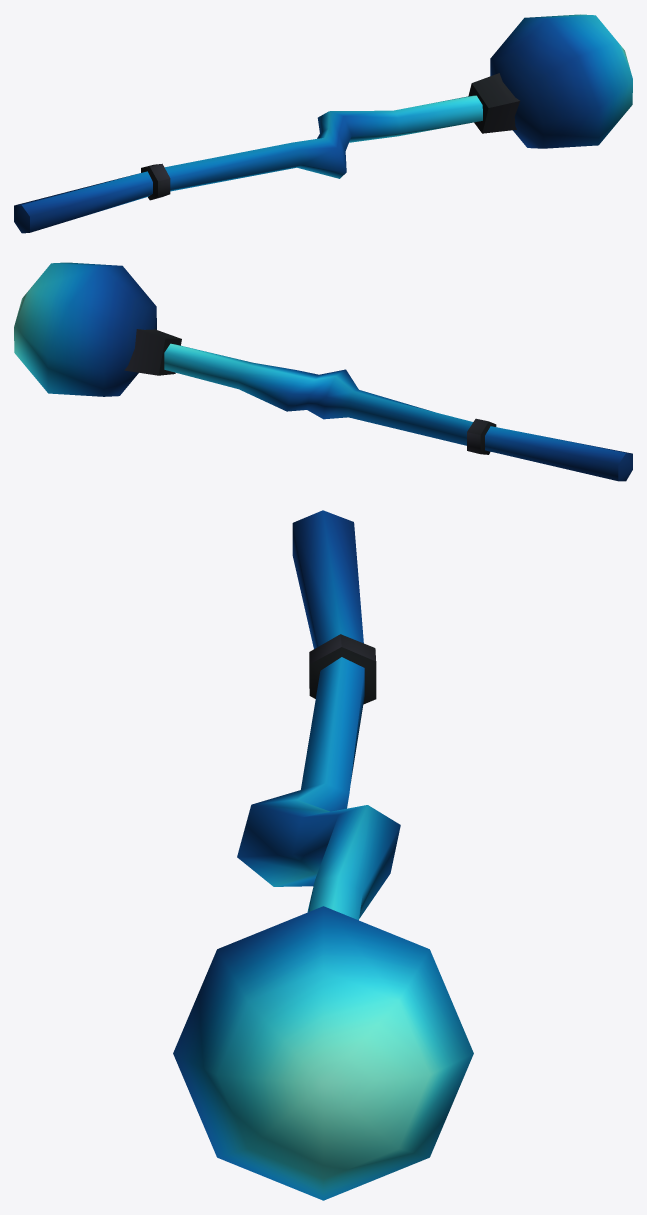
File: weapon_06.FBX
3 renders of one model, top to bottom at view 1: azimuth 30°, elevation 25°; view 2: azimuth 150°, elevation 25°; view 3: azimuth 270°, elevation 25°, orthographic. The views are drawn at different scales.
Parts seen in each view (by area): view 1: weapon_06; view 2: weapon_06; view 3: weapon_06.
Boxes of the visible parts, left/top/right/bottom form: weapon_06: left=14, top=14, right=632, bottom=233; weapon_06: left=14, top=262, right=632, bottom=481; weapon_06: left=173, top=510, right=473, bottom=1200.
Bounding box in the file's own units: 82.35 × 17.12 × 17.59.
1 material, 1 textured.
